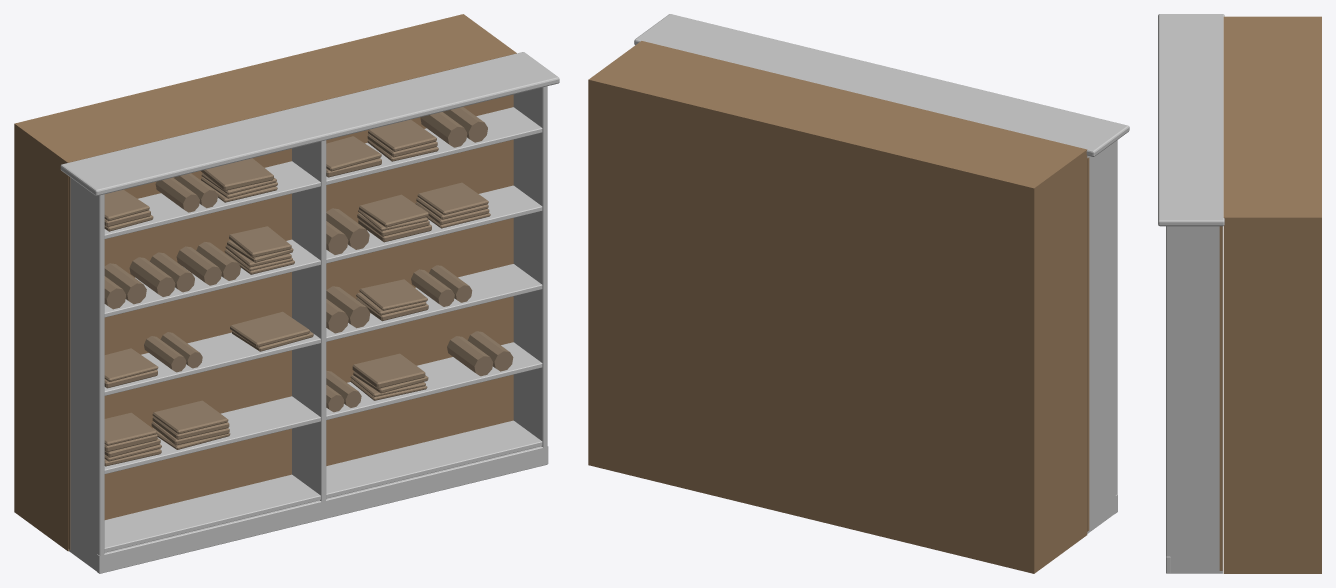
Rendered from furn_shelves_hides.glb.
3 views of the same model, side by side, from view 1: azimuth 30°, elevation 25°; view 2: azimuth 150°, elevation 25°; view 3: azimuth 270°, elevation 25° (orthographic). The views are drawn at different scales.
Parts seen in each view (by area): view 1: furn_shelves_hides; view 2: furn_shelves_hides; view 3: furn_shelves_hides.
Boxes of the visible parts, <box> form: furn_shelves_hides: <box>14,14,559,573</box>; furn_shelves_hides: <box>588,14,1129,573</box>; furn_shelves_hides: <box>1158,14,1321,573</box>.
Bounding box in the file's own units: 3.1 × 2.48 × 1.03.
